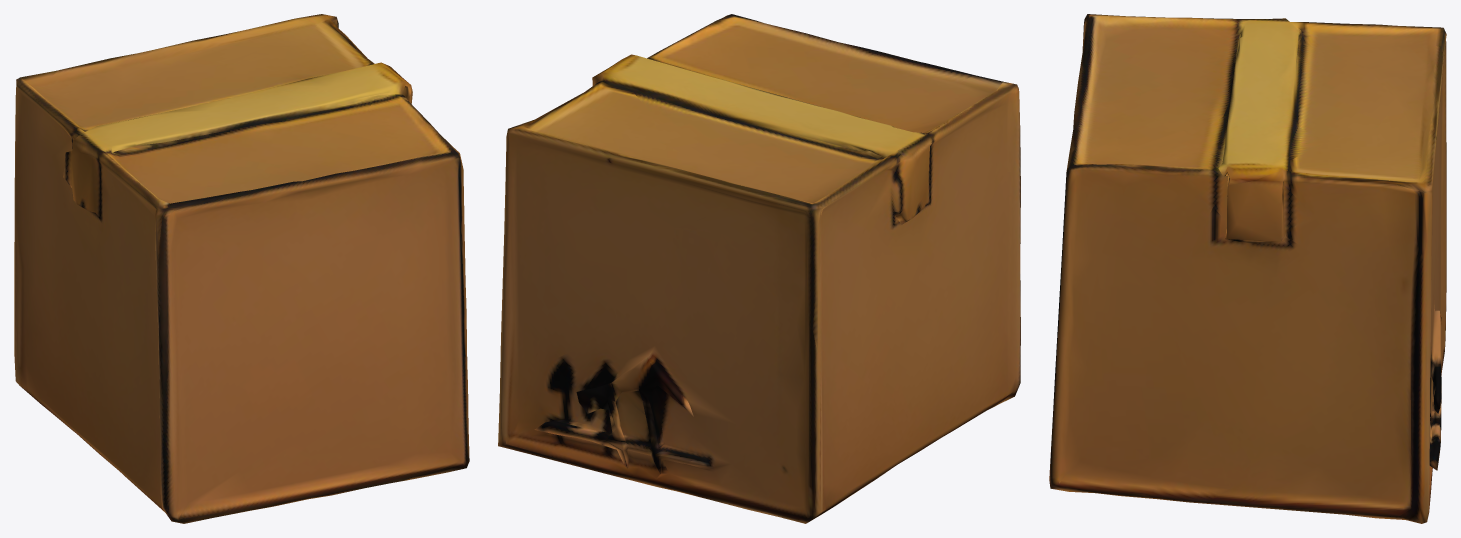
The model's file is ClosedBox.fbx.
3 views of the same model, side by side, from view 1: azimuth 30°, elevation 25°; view 2: azimuth 150°, elevation 25°; view 3: azimuth 270°, elevation 25° (orthographic). The views are drawn at different scales.
Visible parts, largest first — view 1: tripo_node_f1171c2a; view 2: tripo_node_f1171c2a; view 3: tripo_node_f1171c2a.
Part boxes in pixels (x1,y1,x2,y2): tripo_node_f1171c2a: (14,14,469,523); tripo_node_f1171c2a: (498,14,1020,523); tripo_node_f1171c2a: (1049,14,1446,523).
Size of the model in its own units: 20.93 by 18.48 by 19.73.
